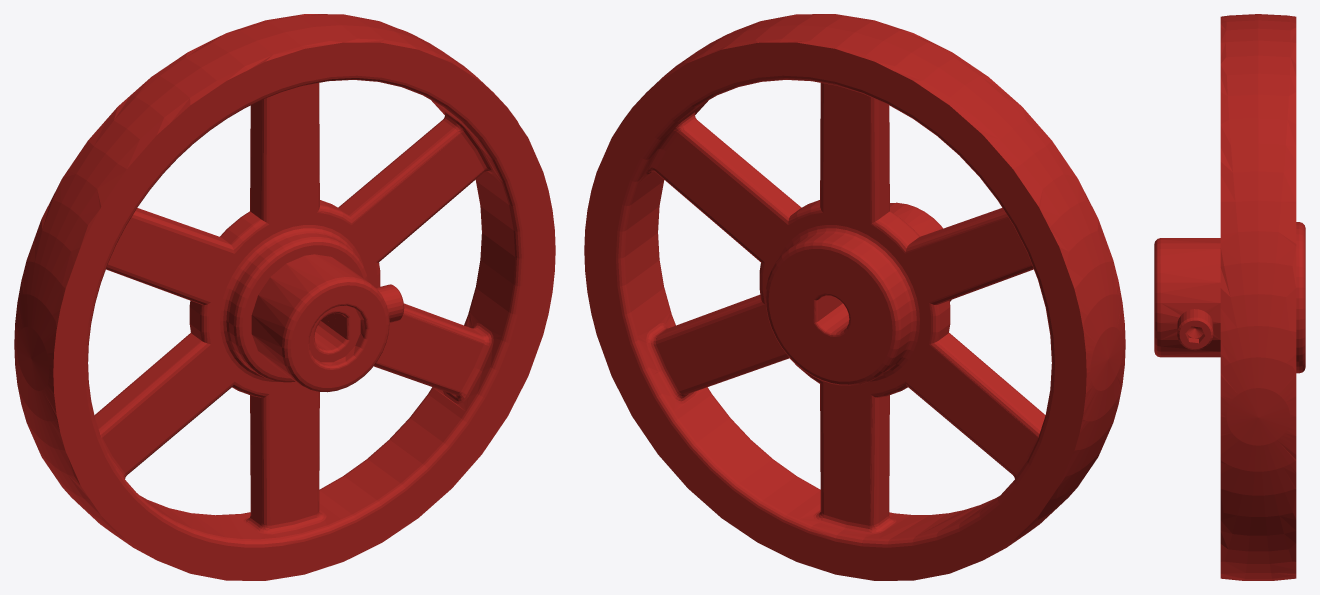
The model's file is acetal_wheel_v1.dae.
The picture shows the model from 3 angles, left to right: view 1: azimuth 30°, elevation 25°; view 2: azimuth 150°, elevation 25°; view 3: azimuth 270°, elevation 25°; orthographic projection. The views are drawn at different scales.
Parts seen in each view (by area): view 1: acetal_wheel; view 2: acetal_wheel; view 3: acetal_wheel.
Part boxes in pixels (x1,y1,x2,y2): acetal_wheel: (14,14,555,580); acetal_wheel: (584,14,1125,580); acetal_wheel: (1154,14,1305,580).
Size of the model in its own units: 0.09 by 0.024 by 0.0899.
